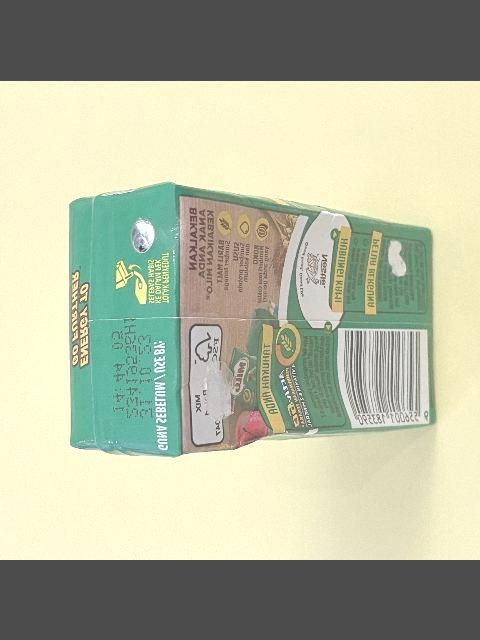drinkpack: (67, 178, 437, 458)
